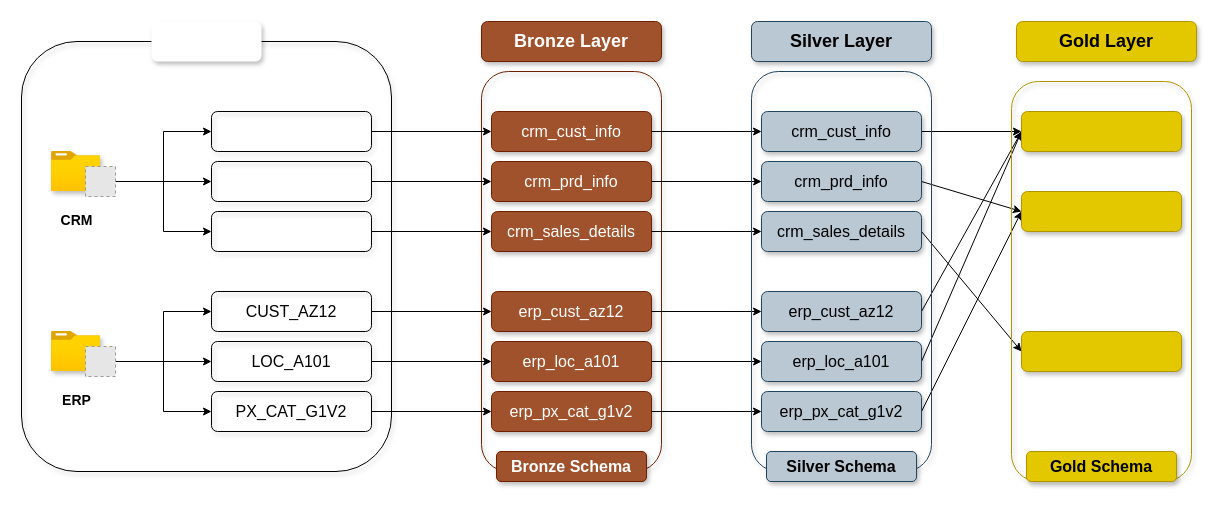
Image size: 1220x506. Some labels were removed from this diagram. Grey dashed boxes stand in for pictures. The shapes that lost their labels are listed below. From the top down, each one's centre as x and y in pixels, then its label:
At [207,42]: "Sources".
At [292,132]: "cust_info".
At [1102,132]: "dim_customers".
At [292,182]: "prd_info".
At [292,232]: "sales_details".
At [1102,212]: "dim_products".
At [1102,352]: "fact_sales".
